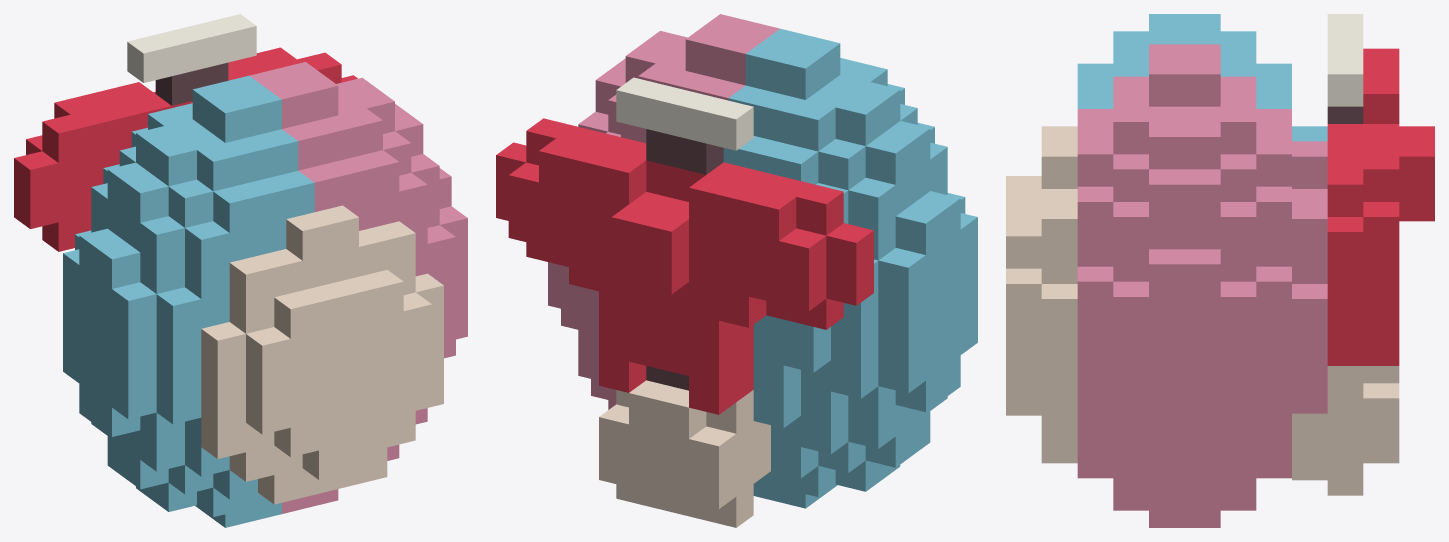
Rendered from Body.gltf.
3 renders of one model, left to right at view 1: azimuth 30°, elevation 25°; view 2: azimuth 150°, elevation 25°; view 3: azimuth 270°, elevation 25°, orthographic. The views are drawn at different scales.
Bounding box in the file's own units: 0.48 × 0.56 × 0.48.
